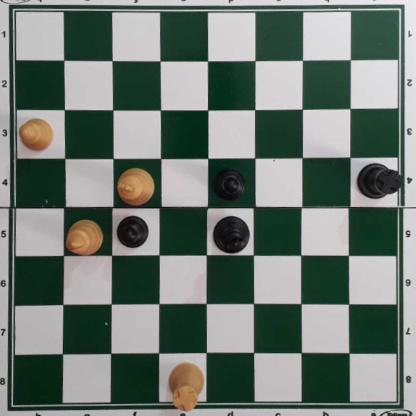black-king: (214, 217, 253, 255)
black-pawn: (212, 167, 246, 202), (118, 216, 150, 250)
white-bishop: (65, 219, 105, 257)
white-king: (118, 168, 154, 209)
white-pawn: (19, 118, 56, 155)
white-rook: (167, 362, 206, 411), (356, 162, 401, 200)
